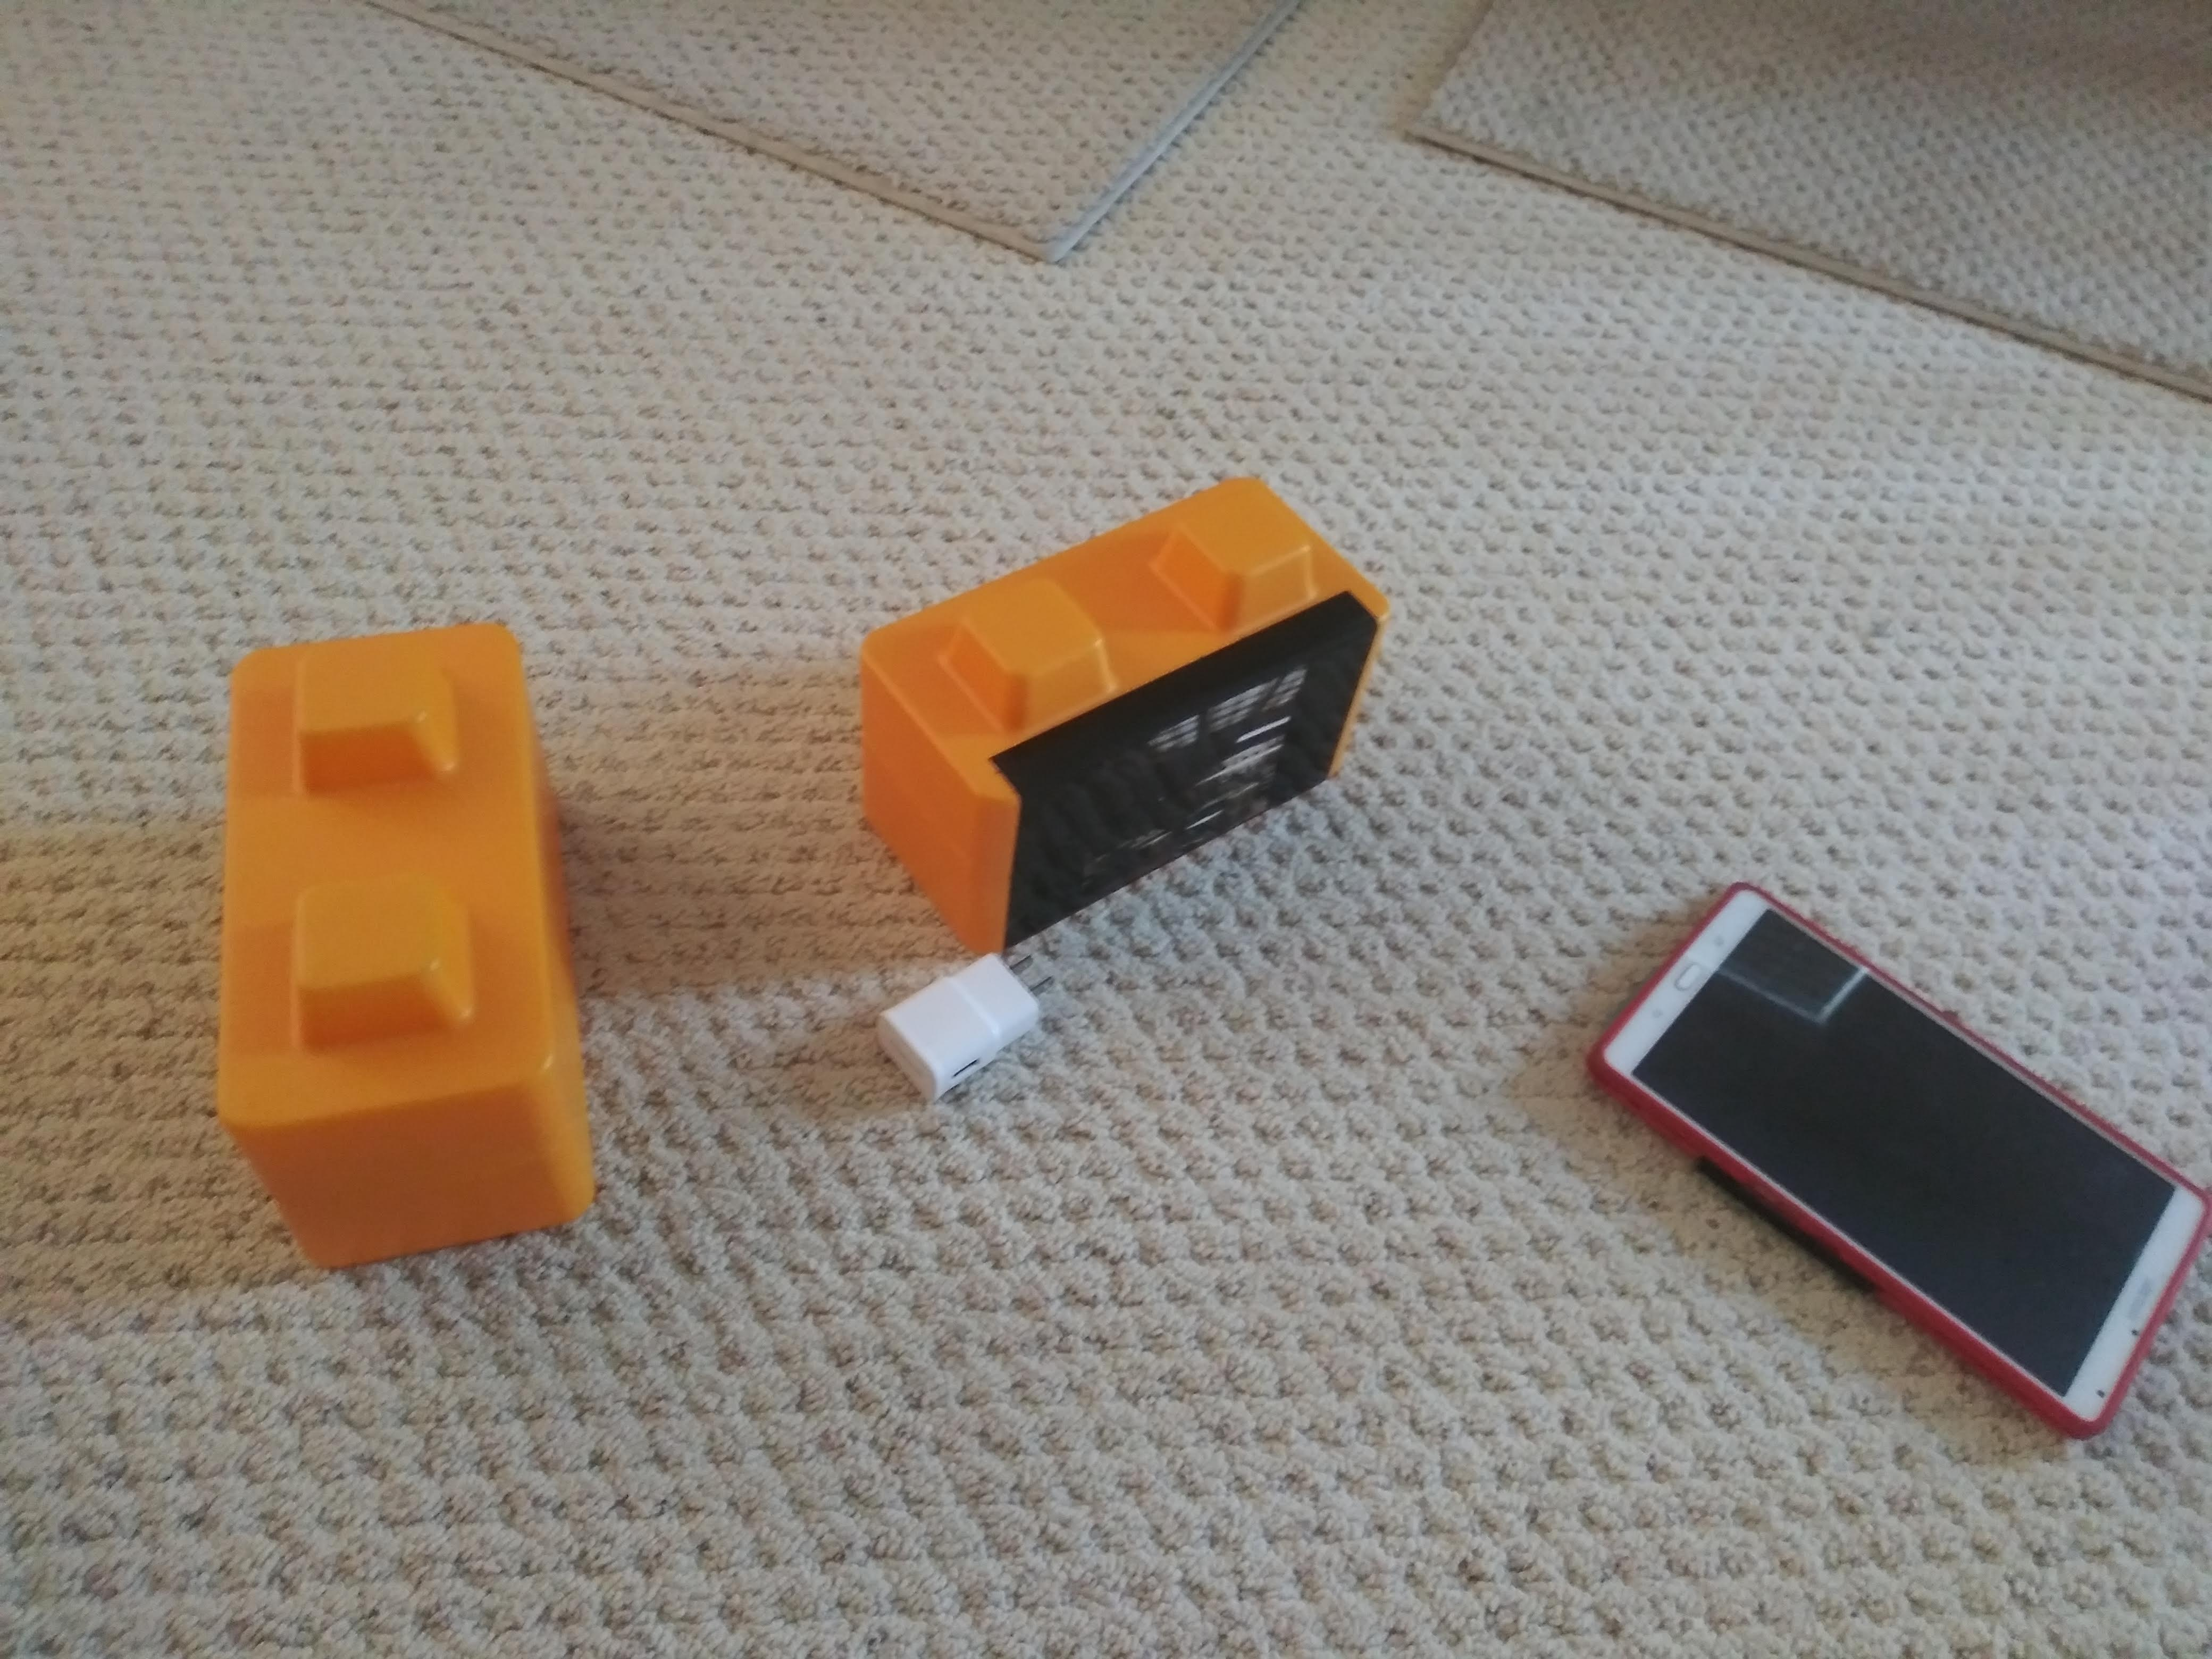skystone: (850, 521, 1372, 924)
stone: (209, 626, 589, 1255)
